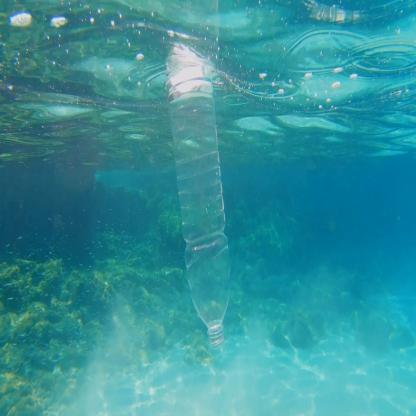Rác: (122, 99, 264, 330)
